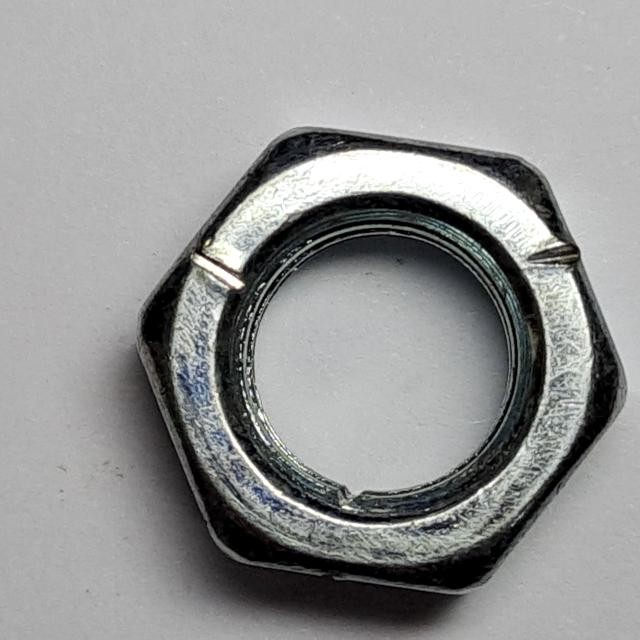Scratches: (128, 117, 640, 607)
